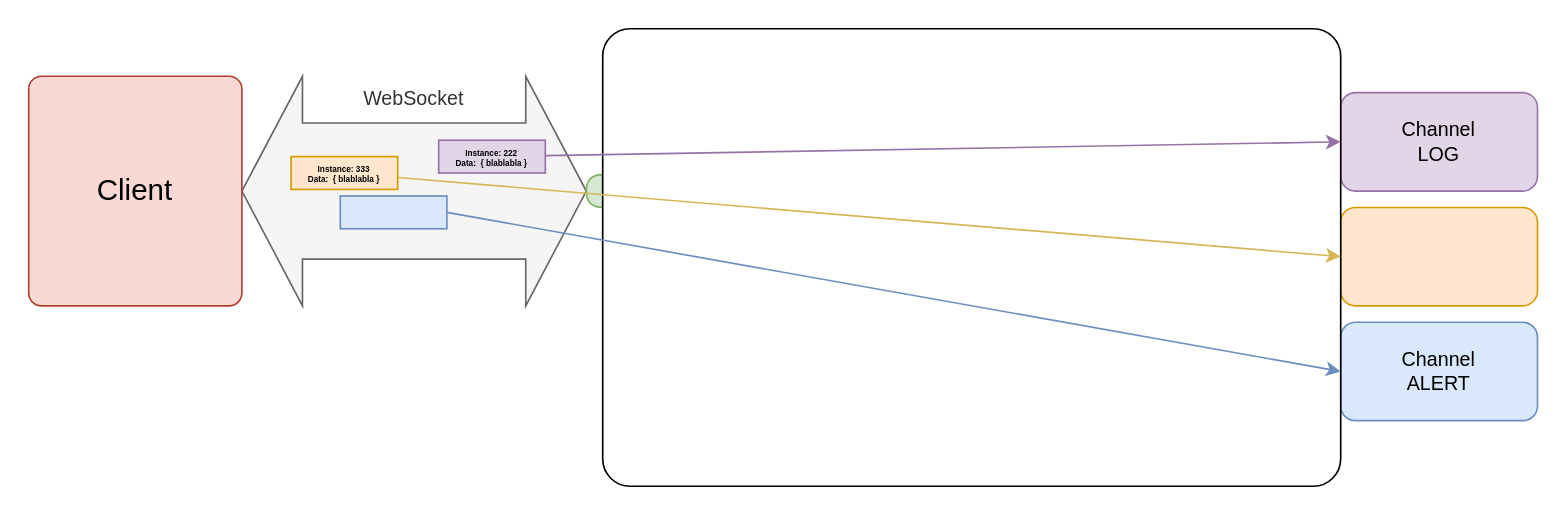
The diagram is 1566 pixels wide and 515 high, and some of its shapes have lost their labels. Each missing label, with the centre of its shape:
"Channel METRICS" belongs at (x=1438, y=256).
"Instance: 111 Data: { blablabla }" belongs at (x=393, y=211).
"Kwirth" belongs at (x=971, y=256).
